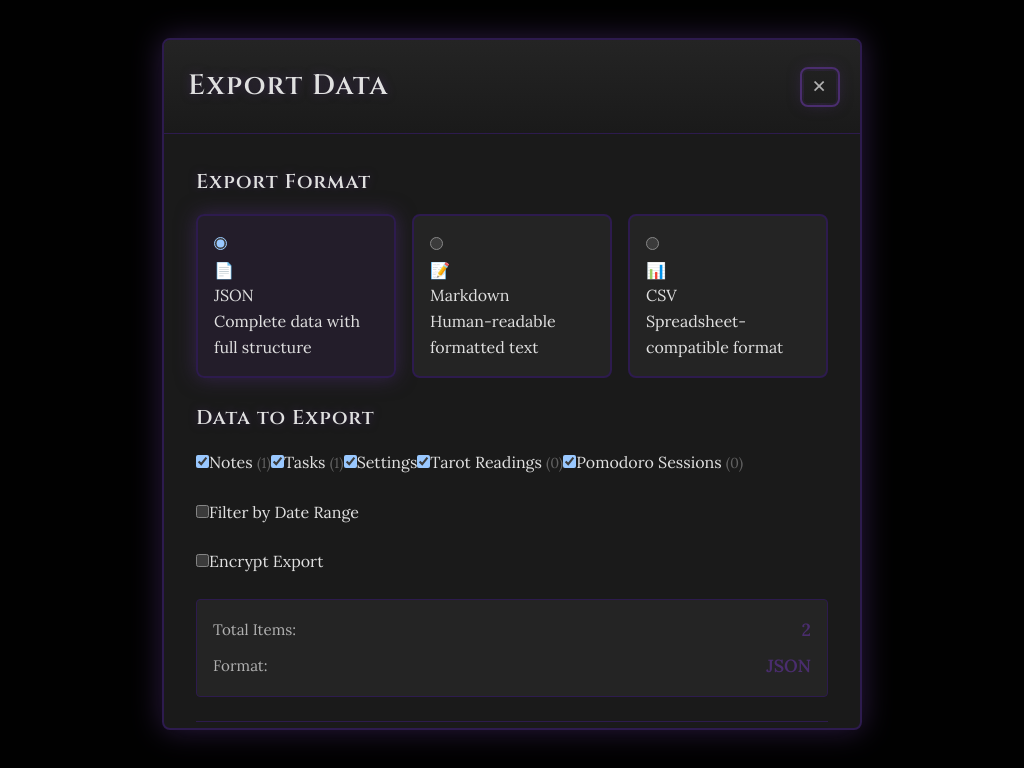
Scenario: ExportDialog › should disable export button when no items selected
Click the checkbox labelled "Notes (1)" at x=202, y=462, box [196,455,209,468]
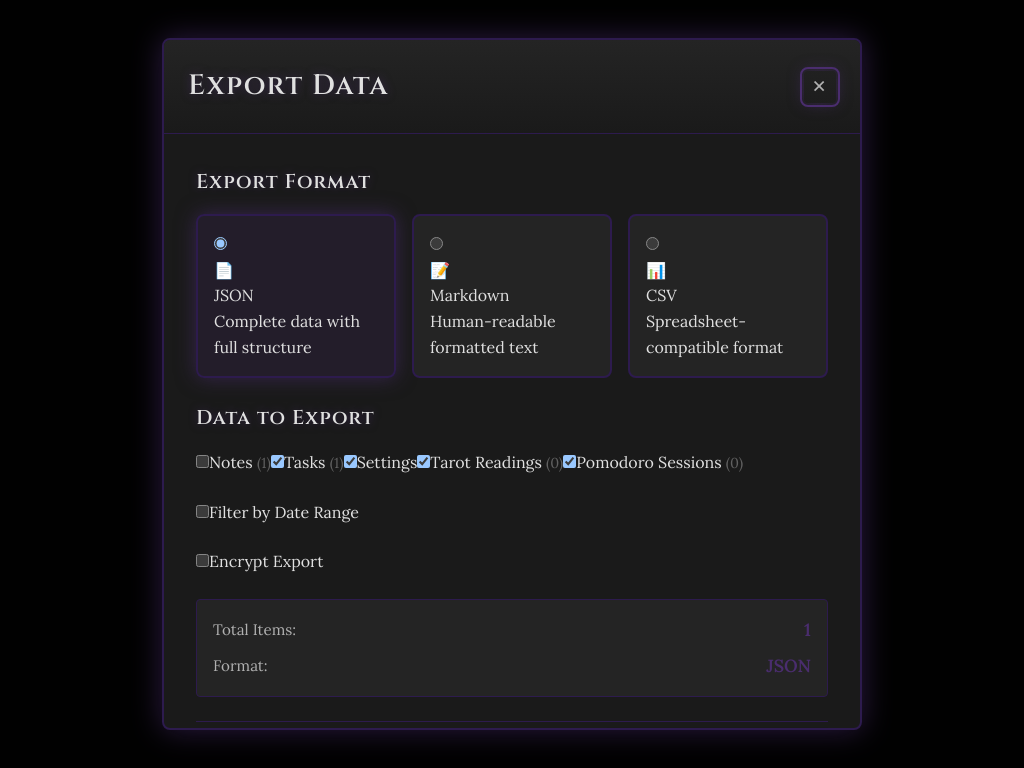
Click the checkbox labelled "Tasks (1)" at x=277, y=462, box [271,455,284,468]
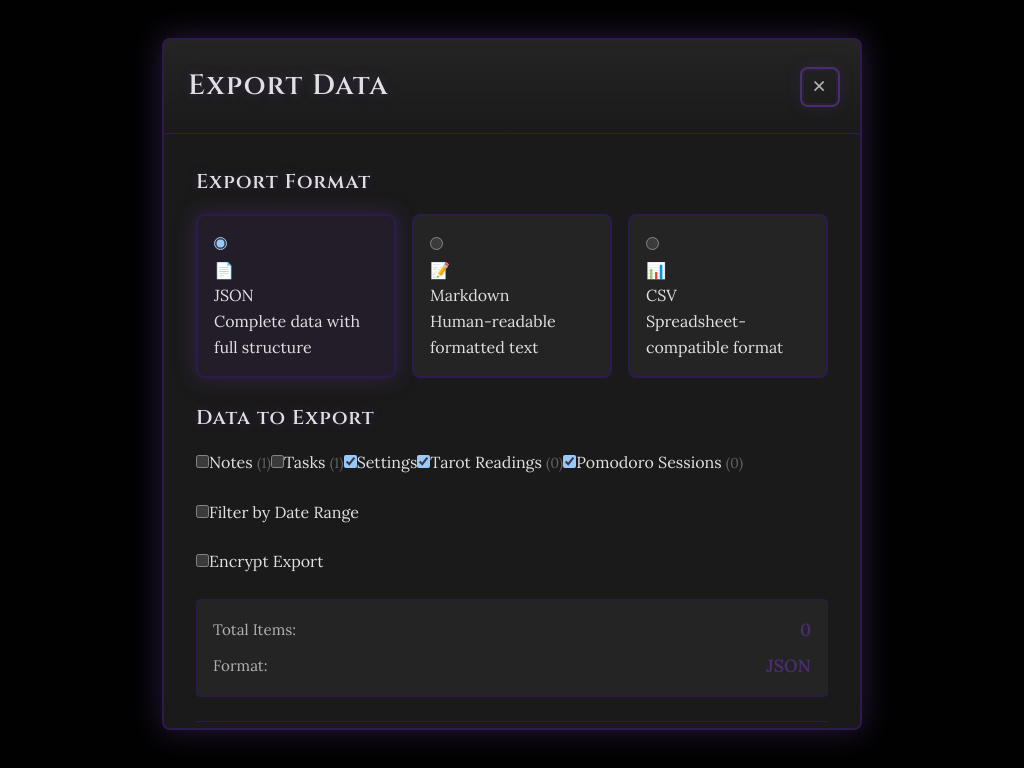
Click the checkbox labelled "Settings" at x=350, y=462, box [344,455,357,468]
(page scrolled)
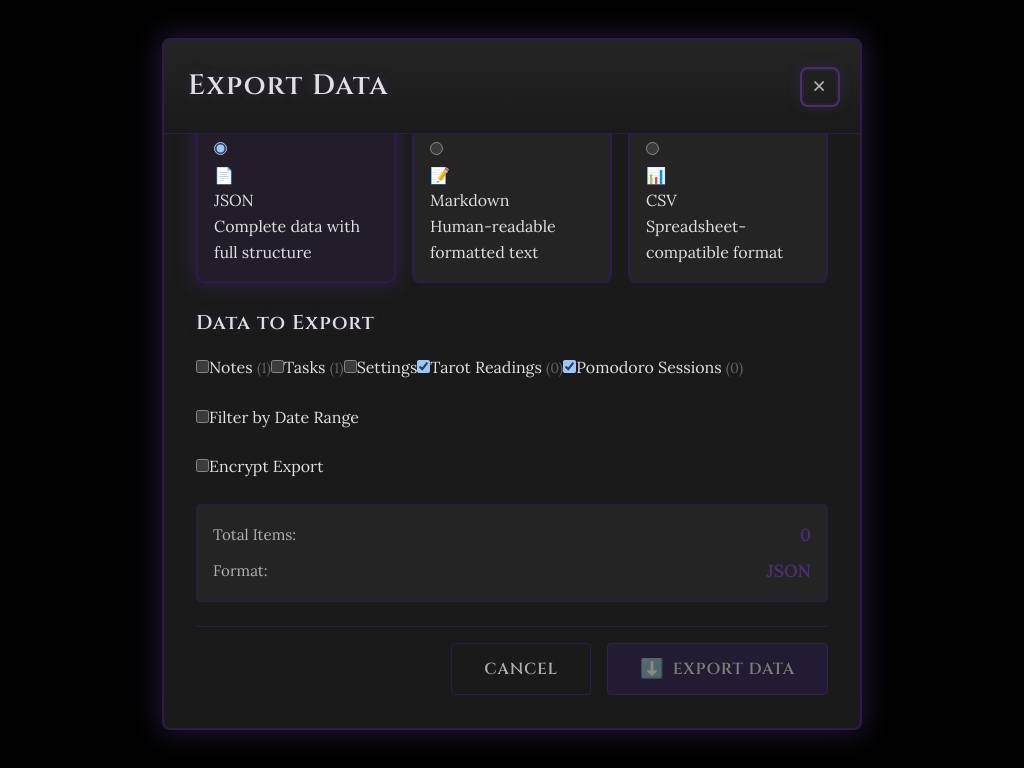
Expected: the button "⬇️ Export Data" is disabled, [607,643,828,695]
